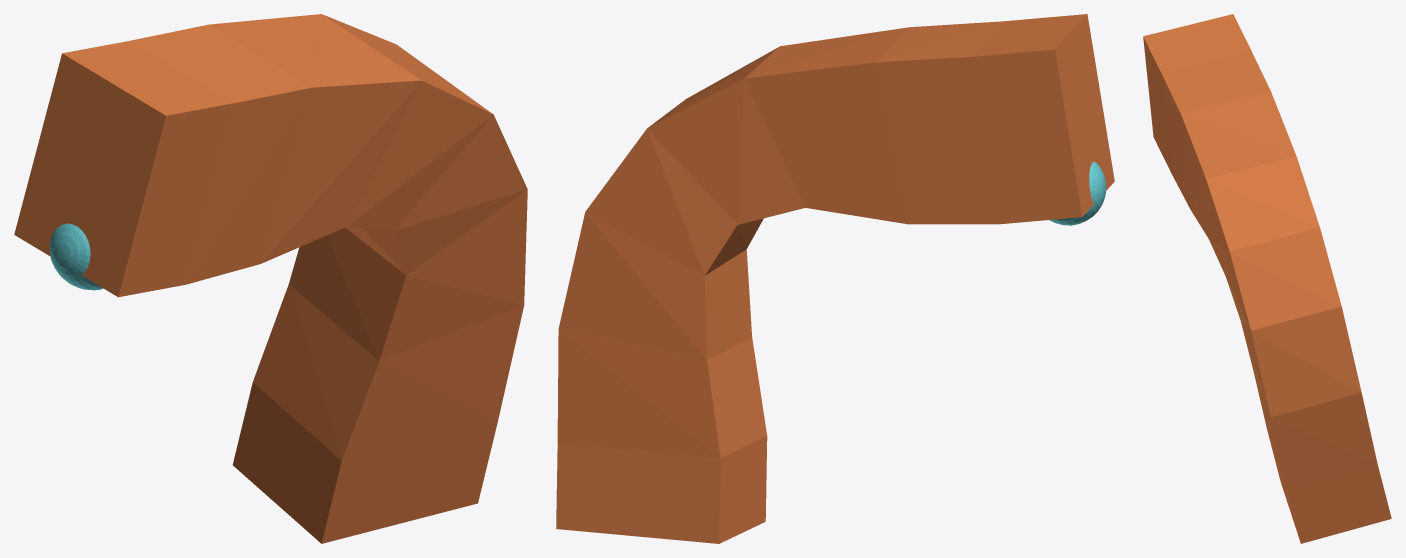
The model's file is control-pose.glb.
3 views of the same model, side by side, from view 1: azimuth 30°, elevation 25°; view 2: azimuth 150°, elevation 25°; view 3: azimuth 270°, elevation 25° (orthographic). The views are drawn at different scales.
Parts seen in each view (by area): view 1: Flexible column · 当前姿态, Wrist; view 2: Flexible column · 当前姿态, Wrist; view 3: Flexible column · 当前姿态.
Boxes of the visible parts, x1=… form: Flexible column · 当前姿态: x1=14, y1=14, x2=527, y2=543; Wrist: x1=49, y1=223, x2=103, y2=290; Flexible column · 当前姿态: x1=556, y1=14, x2=1114, y2=543; Wrist: x1=1049, y1=161, x2=1106, y2=225; Flexible column · 当前姿态: x1=1143, y1=14, x2=1391, y2=543.
Bounding box in the file's own units: 1.82 × 1.98 × 1.16.
